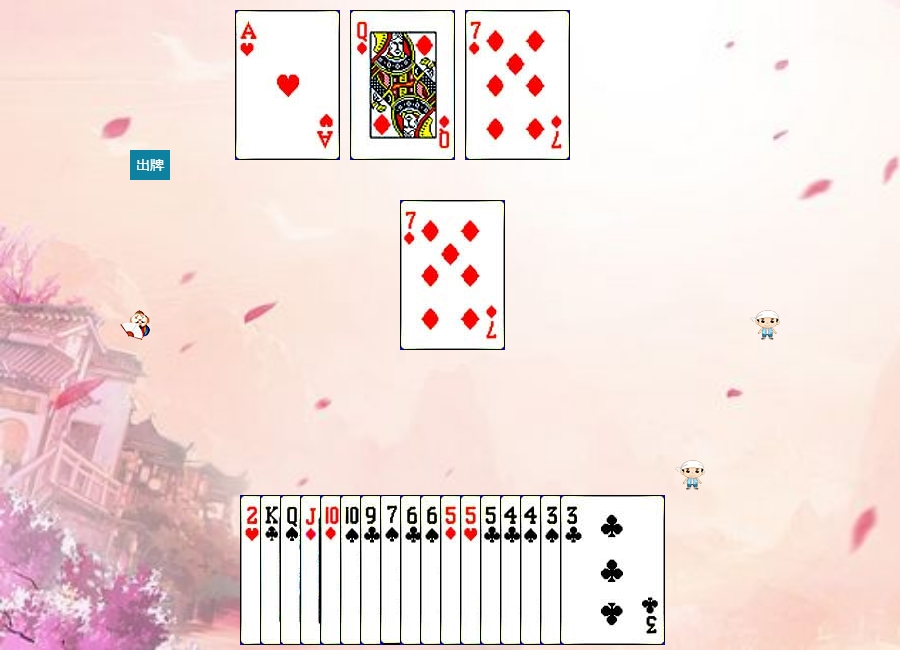10~1: (320, 495, 425, 645)
10~4: (340, 495, 445, 645)
11~1: (300, 495, 405, 645)
12~1: (350, 10, 455, 160)
12~4: (280, 495, 385, 645)
13~2: (260, 495, 365, 645)
14~3: (235, 10, 340, 160)
15~3: (240, 495, 345, 645)
3~2: (560, 495, 665, 645)
3~4: (540, 495, 645, 645)
4~2: (500, 495, 605, 645)
4~4: (520, 495, 625, 645)
5~1: (440, 495, 545, 645)
5~2: (480, 495, 585, 645)
5~3: (460, 495, 565, 645)
6~2: (400, 495, 505, 645)
6~4: (420, 495, 525, 645)
7~1: (465, 10, 570, 160), (400, 200, 505, 350)
7~4: (380, 495, 485, 645)
9~2: (360, 495, 465, 645)
